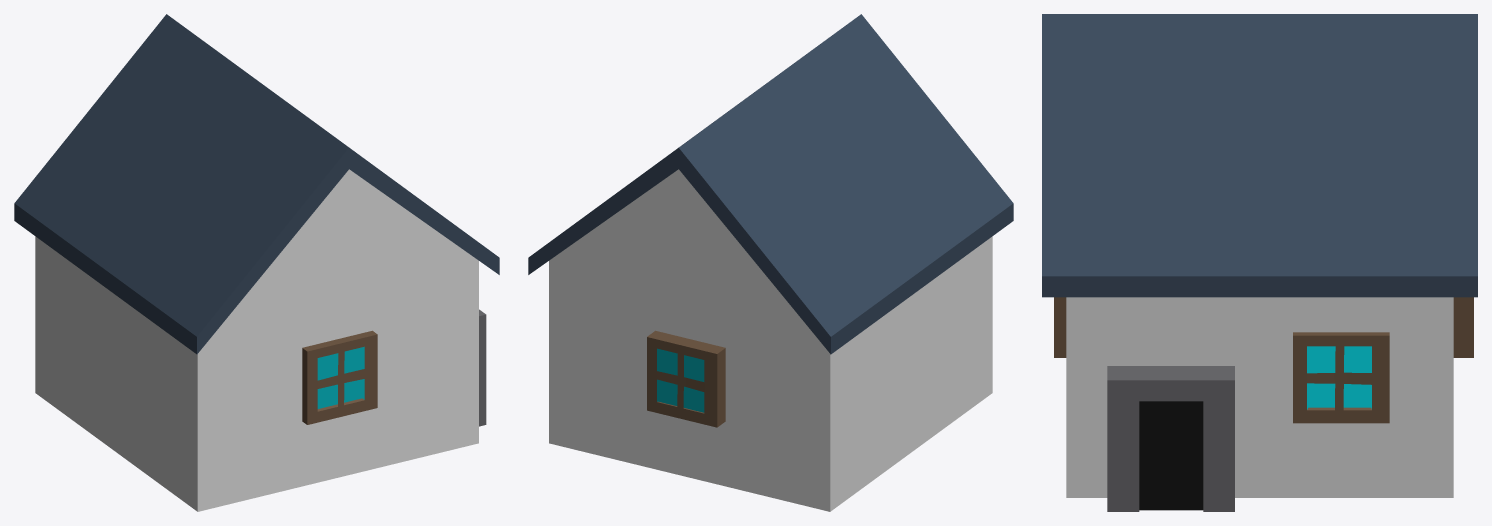
Rendered from house.fbx.
3 views of the same model, side by side, from view 1: azimuth 30°, elevation 25°; view 2: azimuth 150°, elevation 25°; view 3: azimuth 270°, elevation 25° (orthographic). The views are drawn at different scales.
Parts seen in each view (by area): view 1: Cube, Cube.001, Cube.003, Plane.002, Cube.002; view 2: Cube, Cube.001, Cube.005, Plane.003; view 3: Cube.001, Cube, Cube.002, Plane, Cube.004, Plane.001, Cube.005, Cube.003.
Boxes of the visible parts, left/top/right/bottom form: Cube: left=35, top=169, right=478, bottom=511; Cube.001: left=14, top=14, right=499, bottom=354; Cube.003: left=302, top=330, right=377, bottom=424; Plane.002: left=317, top=346, right=364, bottom=408; Cube.002: left=479, top=309, right=486, bottom=426; Cube: left=549, top=169, right=992, bottom=511; Cube.001: left=528, top=14, right=1013, bottom=354; Cube.005: left=647, top=330, right=725, bottom=427; Plane.003: left=657, top=348, right=704, bottom=412; Cube.001: left=1042, top=14, right=1477, bottom=297; Cube: left=1066, top=297, right=1453, bottom=497; Cube.002: left=1107, top=366, right=1234, bottom=511; Plane: left=1139, top=401, right=1203, bottom=510; Cube.004: left=1293, top=332, right=1389, bottom=423; Plane.001: left=1307, top=346, right=1371, bottom=409; Cube.005: left=1453, top=297, right=1473, bottom=357; Cube.003: left=1054, top=297, right=1066, bottom=357.
Bounding box in the file's own units: 900 × 920 × 900.
